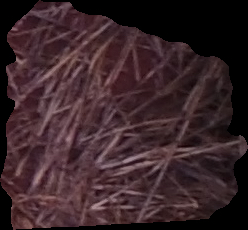soil: (4, 4, 244, 225)
